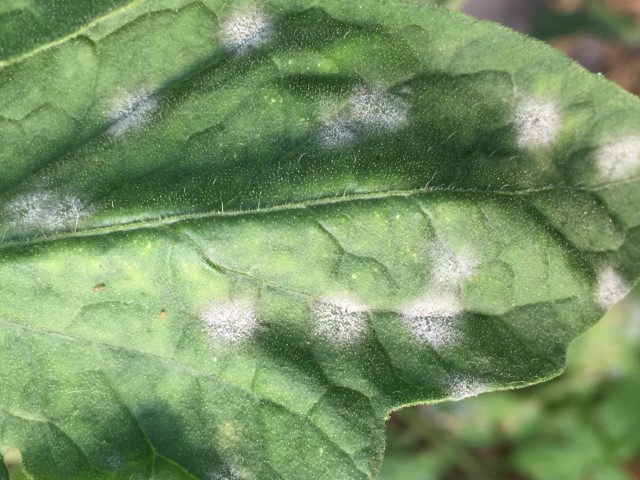oidio: (318, 84, 410, 146), (2, 189, 88, 237), (308, 291, 369, 351), (402, 293, 464, 350), (421, 235, 480, 292), (199, 294, 256, 351), (104, 86, 160, 137), (218, 9, 275, 57), (511, 97, 561, 150), (595, 135, 638, 182), (589, 265, 629, 311), (439, 371, 499, 397), (206, 466, 240, 480), (105, 452, 121, 472)
